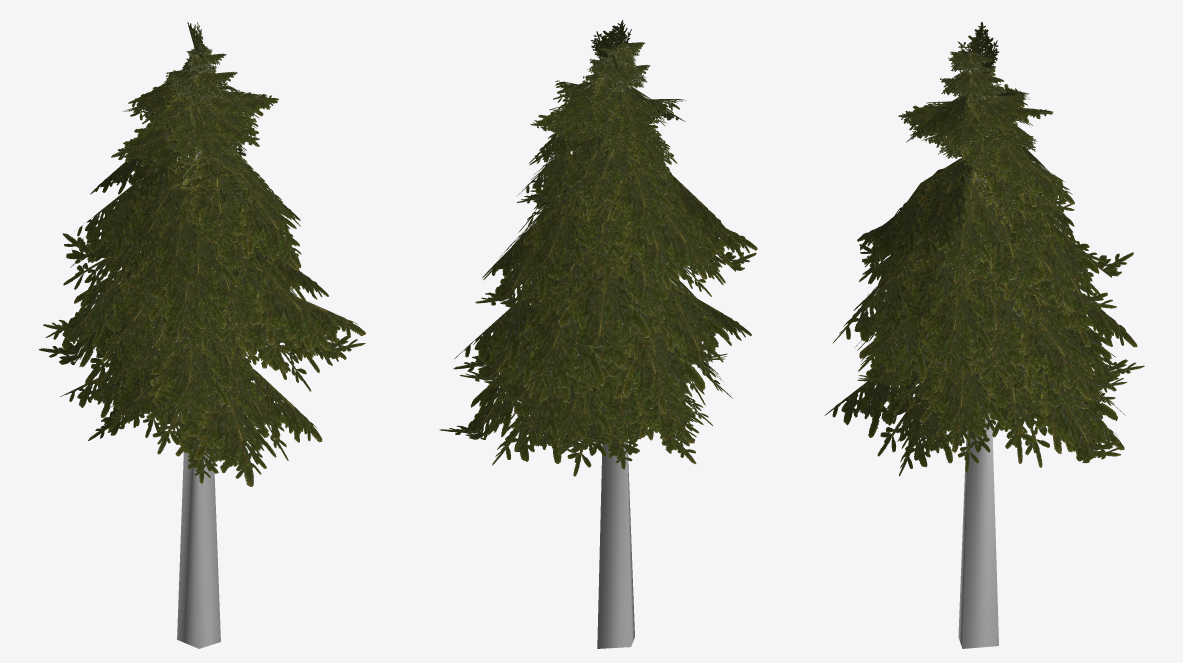
File: pine_tree_model3.obj
3 views of the same model, side by side, from view 1: azimuth 30°, elevation 25°; view 2: azimuth 150°, elevation 25°; view 3: azimuth 270°, elevation 25° (orthographic).
Parts seen in each view (by area): view 1: pine_tree_model_LOD_1500_tree_pine_joined; view 2: pine_tree_model_LOD_1500_tree_pine_joined; view 3: pine_tree_model_LOD_1500_tree_pine_joined.
Part boxes in pixels (x1,y1,x2,y2): pine_tree_model_LOD_1500_tree_pine_joined: (38, 22, 365, 648); pine_tree_model_LOD_1500_tree_pine_joined: (439, 20, 757, 648); pine_tree_model_LOD_1500_tree_pine_joined: (824, 22, 1144, 648).
Size of the model in its own units: 10.13 by 19.7 by 10.49.
